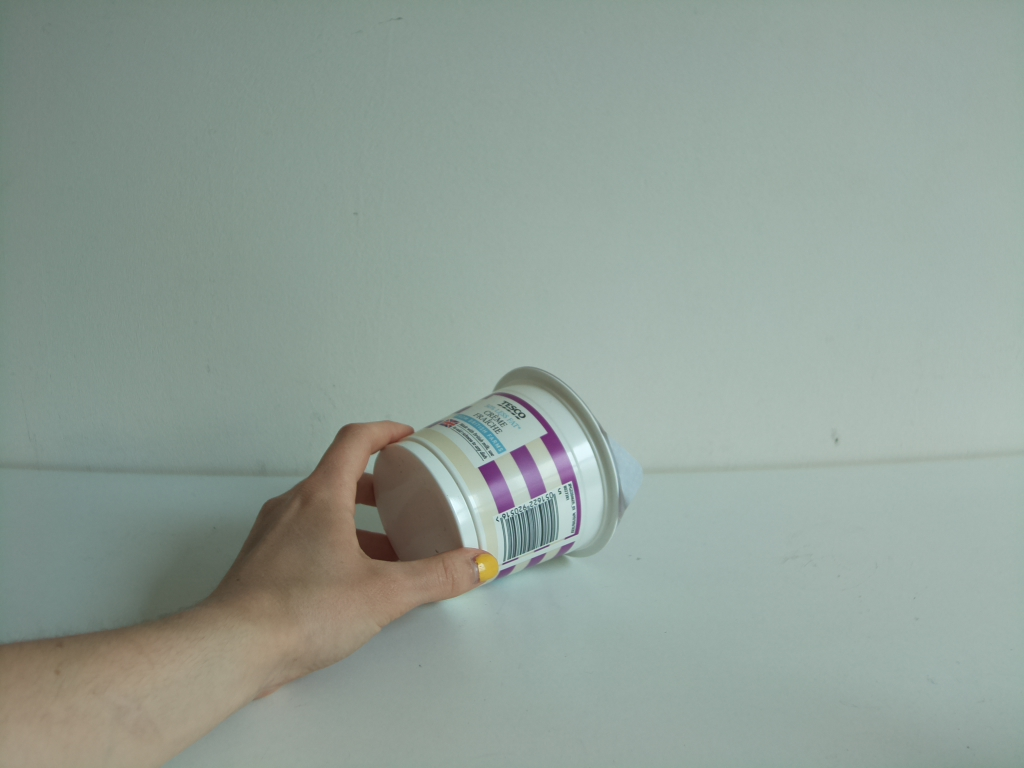cream: (375, 361, 640, 591)
